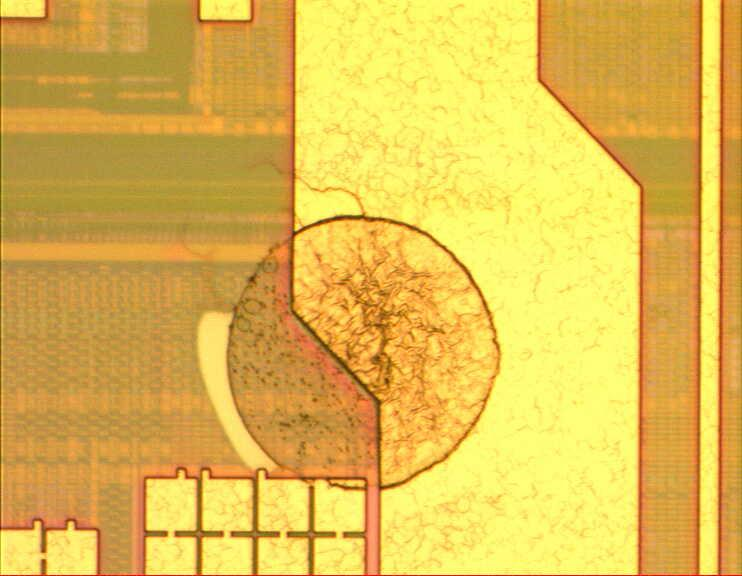BLOCK ETCH: (194, 189, 526, 521)
